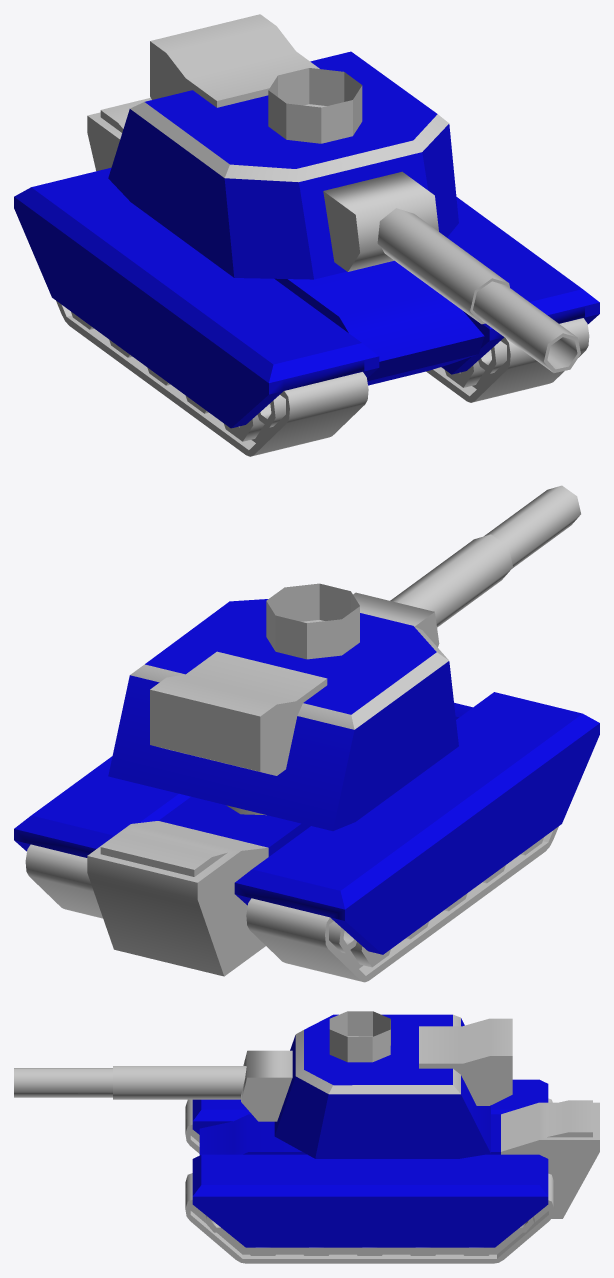
Rendered from Tank(7Level).fbx.
3 views of the same model, one above another, from view 1: azimuth 30°, elevation 25°; view 2: azimuth 150°, elevation 25°; view 3: azimuth 270°, elevation 25° (orthographic). The views are drawn at different scales.
Visible parts, largest first — view 1: TankTurret, Tank, LargeTrackSet; view 2: Tank, TankTurret, LargeTrackSet; view 3: Tank, TankTurret, LargeTrackSet.
Boxes of the visible parts, bbox=[...] form: TankTurret: bbox=[108, 14, 580, 372]; Tank: bbox=[14, 98, 599, 428]; LargeTrackSet: bbox=[56, 301, 589, 456]; Tank: bbox=[14, 692, 599, 976]; TankTurret: bbox=[108, 485, 580, 830]; LargeTrackSet: bbox=[25, 826, 558, 982]; Tank: bbox=[192, 1079, 599, 1247]; TankTurret: bbox=[14, 1011, 512, 1158]; LargeTrackSet: bbox=[185, 1098, 554, 1263].
Size of the model in its own units: 317 by 696 by 248.
